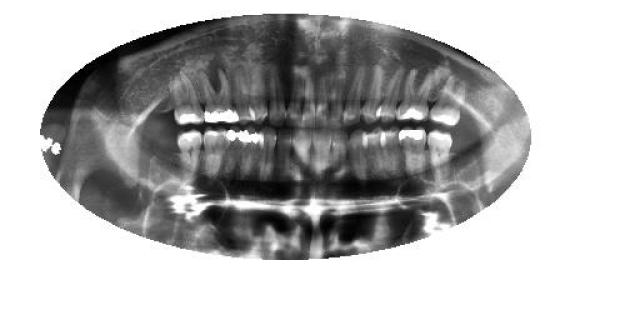Fillings: (201, 70, 239, 124), (395, 70, 434, 121), (398, 126, 428, 176), (224, 126, 245, 175), (240, 126, 259, 180)
